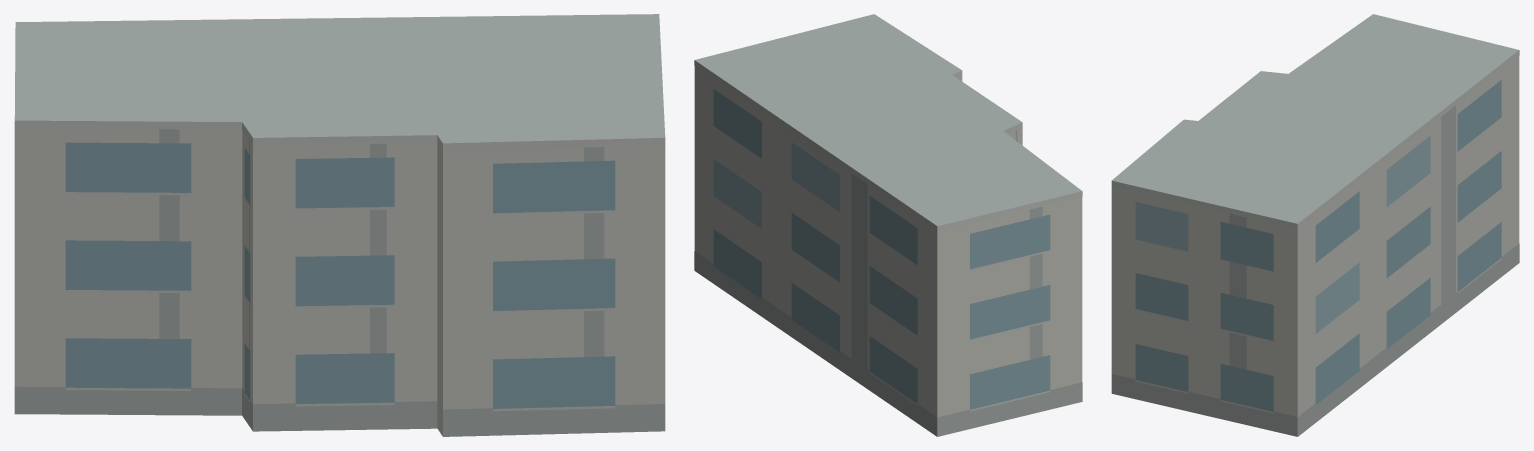
Rendered from residential-13905d4a-2b6e-48f5-8839-576b395cf4fc.glb.
The picture shows the model from 3 angles, left to right: view 1: azimuth 30°, elevation 25°; view 2: azimuth 150°, elevation 25°; view 3: azimuth 270°, elevation 25°; orthographic projection. The views are drawn at different scales.
Parts seen in each view (by area): view 1: residential-13905d4a-2b6e-48f5-8839-576b395cf4fc.tmp; view 2: residential-13905d4a-2b6e-48f5-8839-576b395cf4fc.tmp; view 3: residential-13905d4a-2b6e-48f5-8839-576b395cf4fc.tmp.
Boxes of the visible parts, x1,y1,x2,y2 form: residential-13905d4a-2b6e-48f5-8839-576b395cf4fc.tmp: (14,14,665,436); residential-13905d4a-2b6e-48f5-8839-576b395cf4fc.tmp: (694,14,1082,436); residential-13905d4a-2b6e-48f5-8839-576b395cf4fc.tmp: (1111,14,1519,436).
Bounding box in the file's own units: 19.34 × 9.15 × 15.88.
